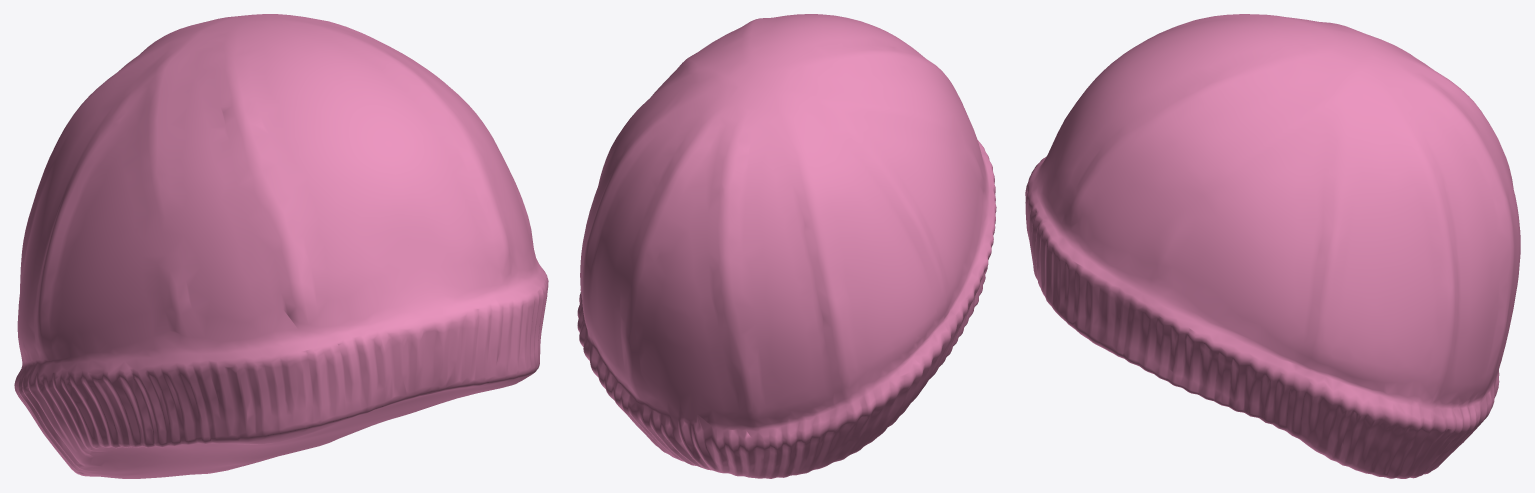
Rendered from unknown hat style male version.fbx.
The picture shows the model from 3 angles, left to right: view 1: azimuth 30°, elevation 25°; view 2: azimuth 150°, elevation 25°; view 3: azimuth 270°, elevation 25°; orthographic projection. The views are drawn at different scales.
Visible parts, largest first — view 1: Cube.001; view 2: Cube.001; view 3: Cube.001.
Boxes of the visible parts, x1,y1,x2,y2 form: Cube.001: [14, 14, 548, 478]; Cube.001: [577, 14, 996, 478]; Cube.001: [1025, 14, 1520, 478].
Size of the model in its own units: 23.01 by 23.39 by 25.38.
